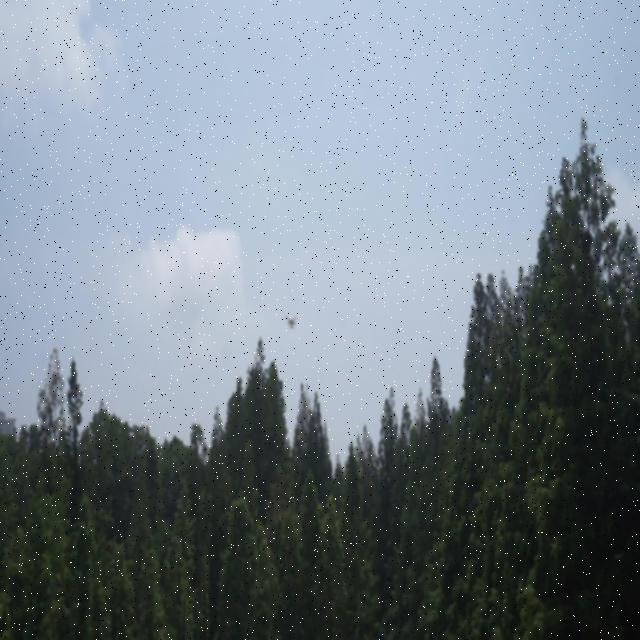UAV: (283, 315, 299, 330)
